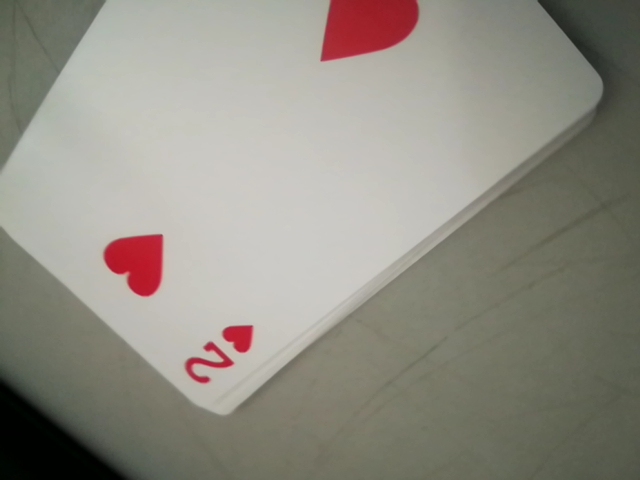hx 2: (178, 317, 263, 390)
